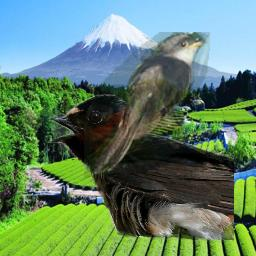Cuckoo: (84, 32, 210, 179)
Swallow: (46, 94, 234, 242)
